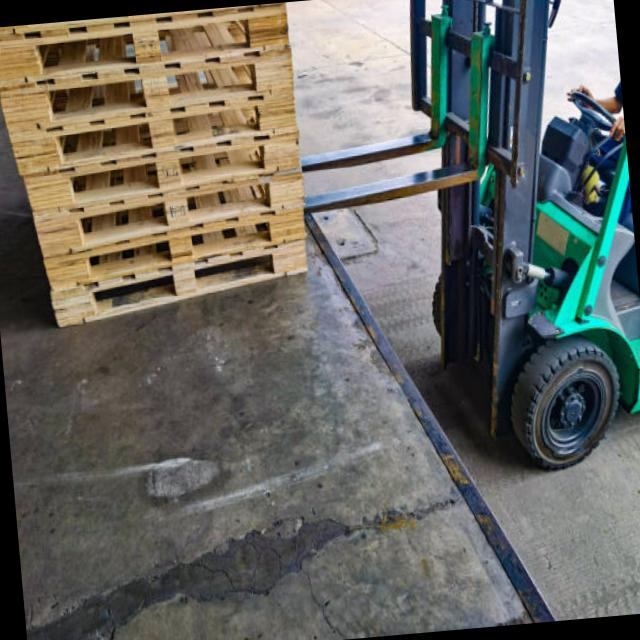Wooden-Pallets: (20, 159, 317, 263), (0, 48, 302, 146), (0, 1, 300, 93), (46, 237, 322, 336), (33, 203, 318, 297), (10, 129, 306, 216), (9, 94, 311, 179)
